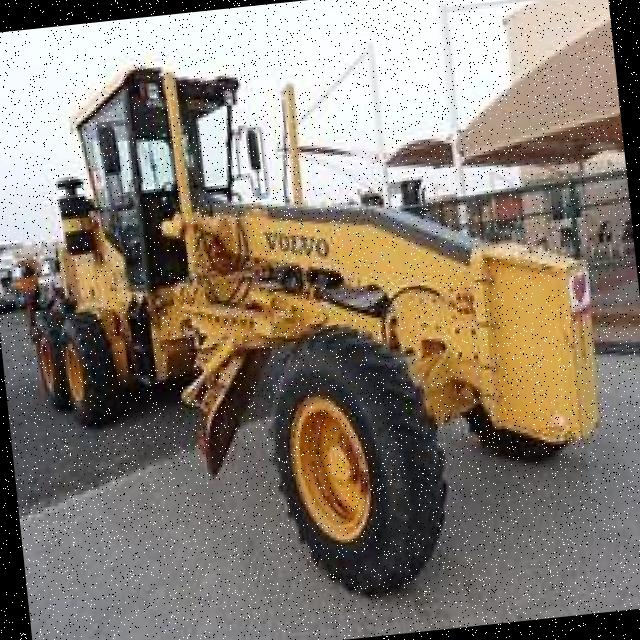Grader: (0, 3, 621, 640)
